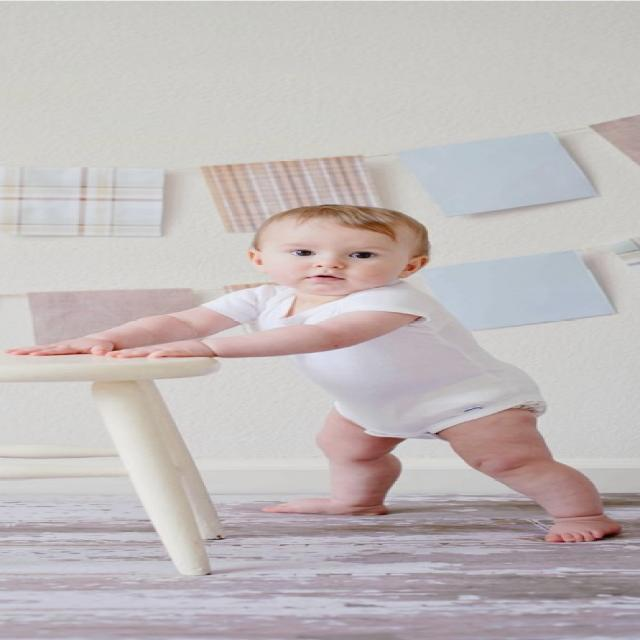child: (6, 199, 640, 554)
